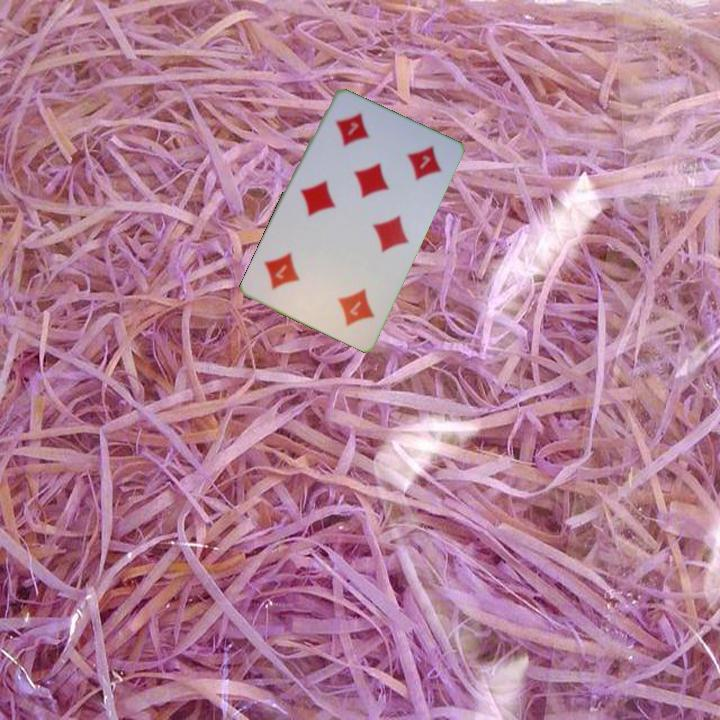d_7.png: (314, 97, 398, 176), (305, 262, 389, 341)
